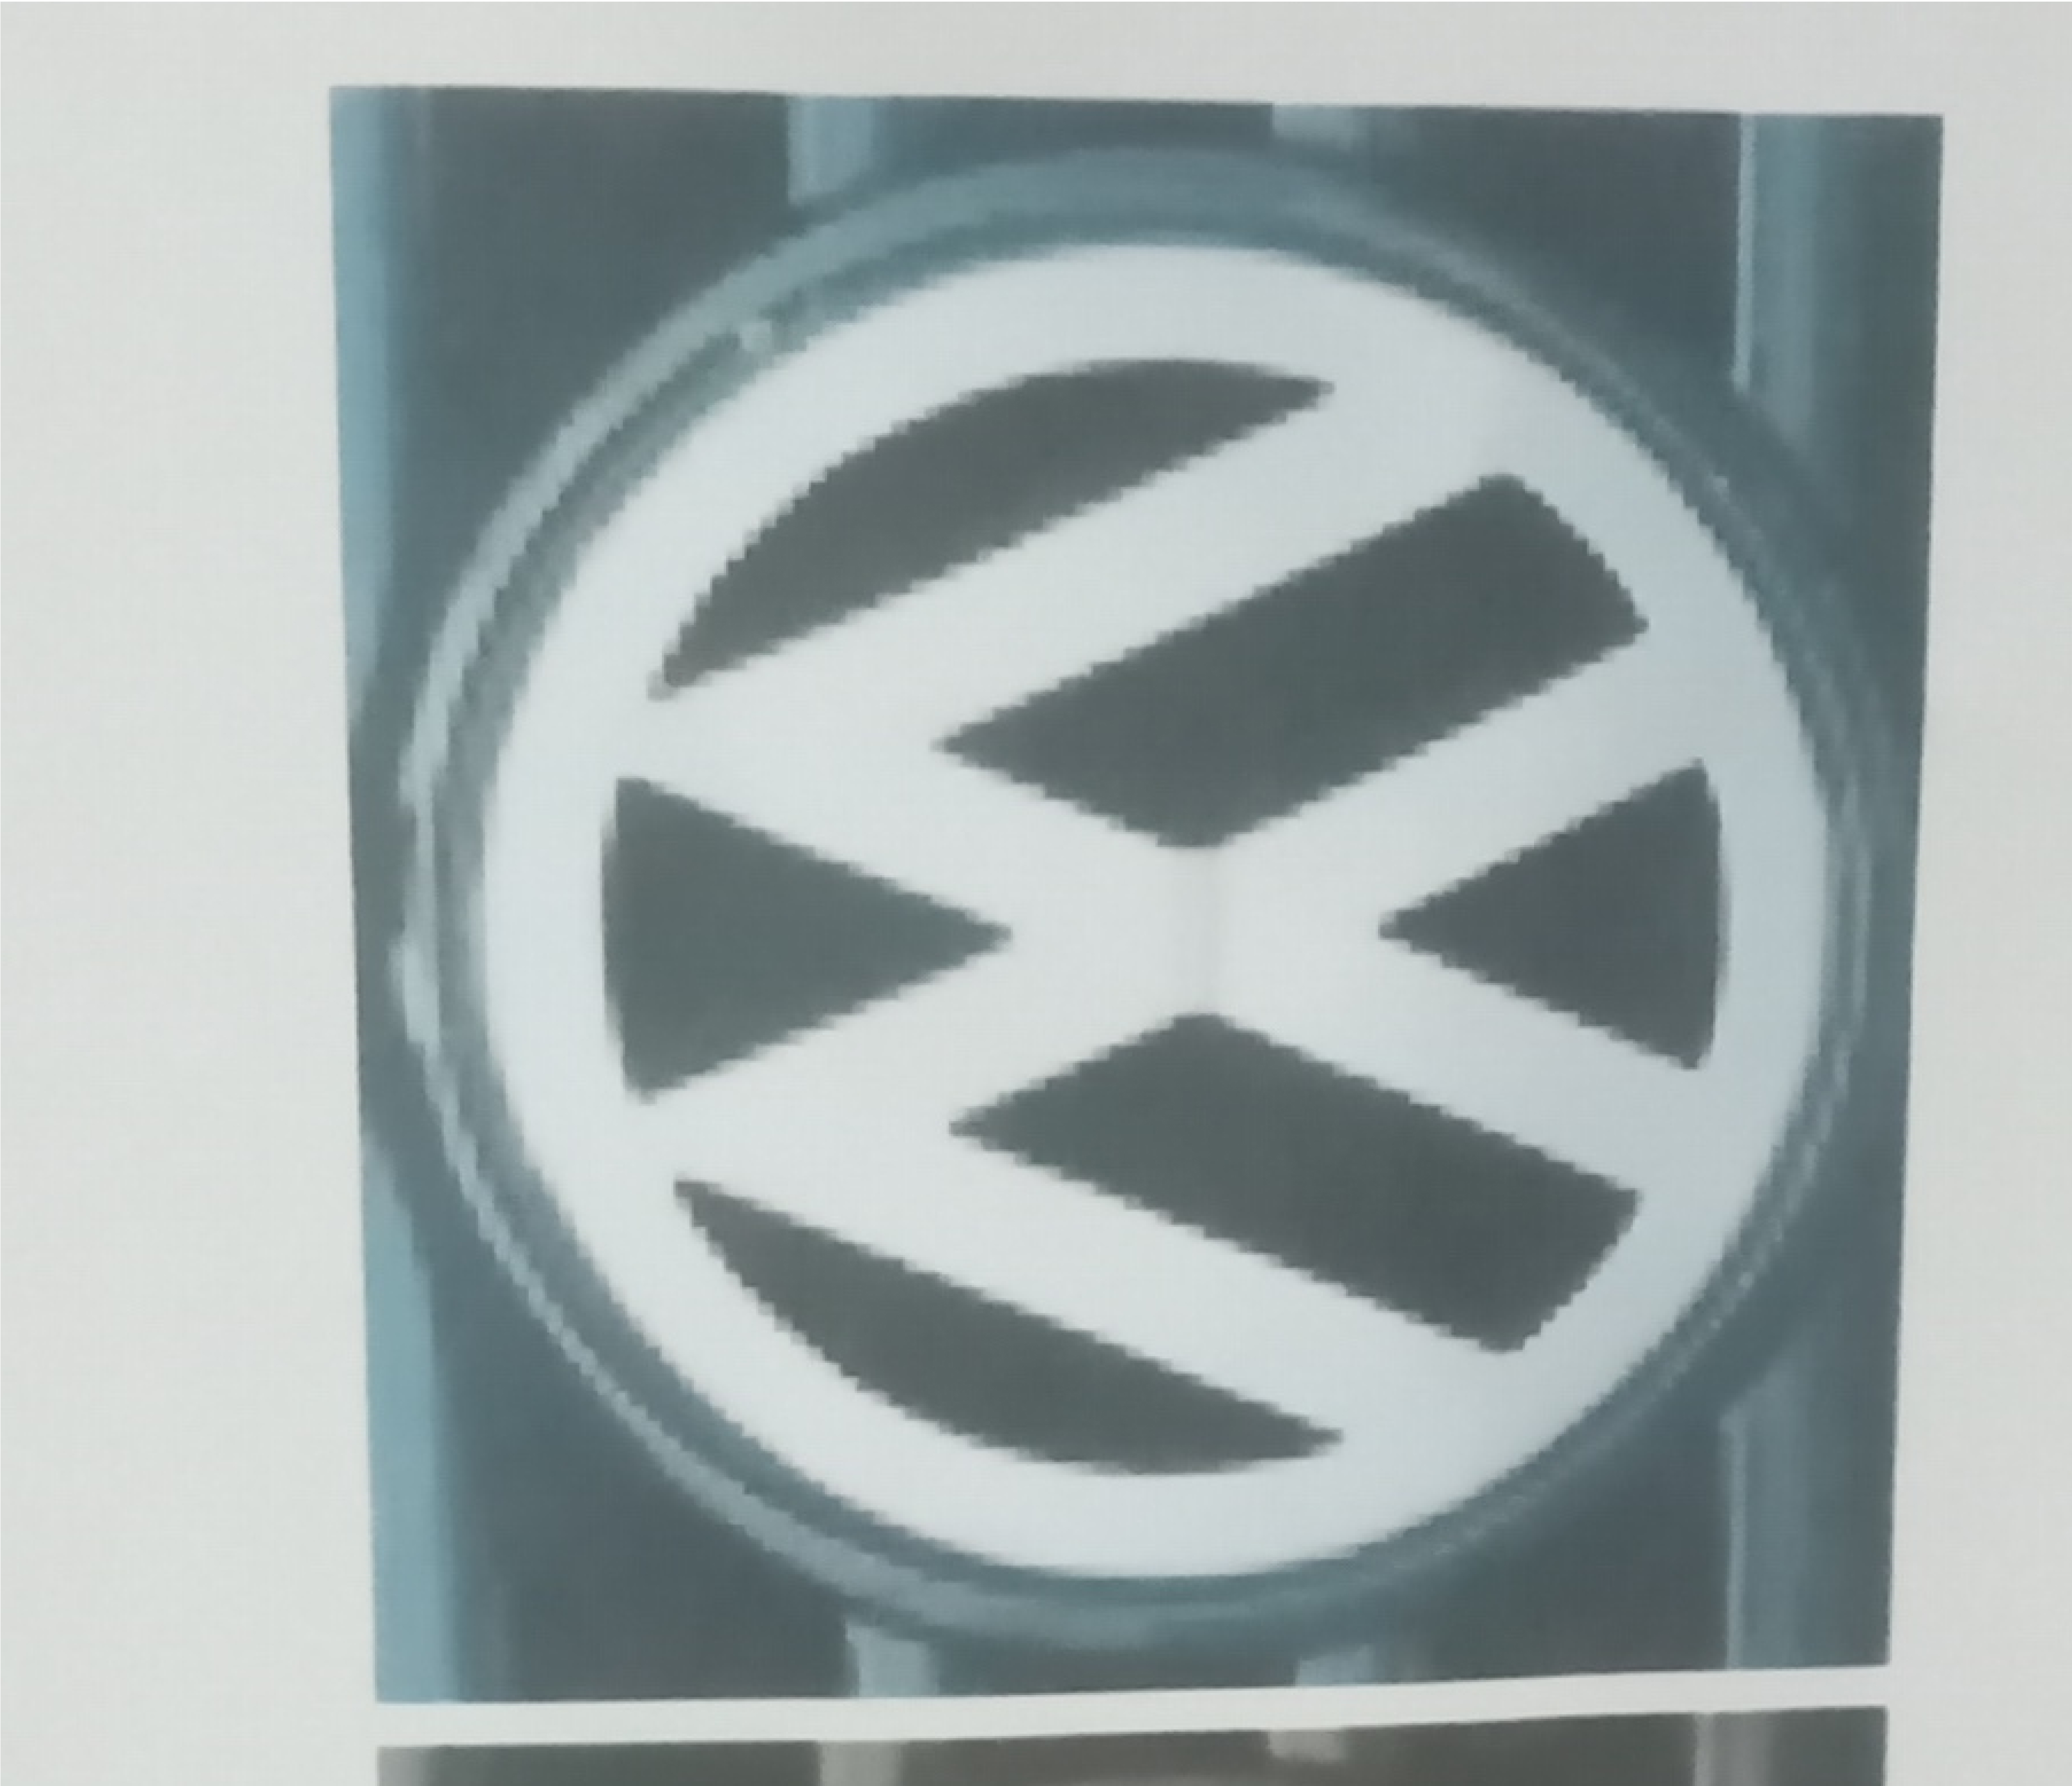Volkswagen: (335, 92, 1940, 1701)
